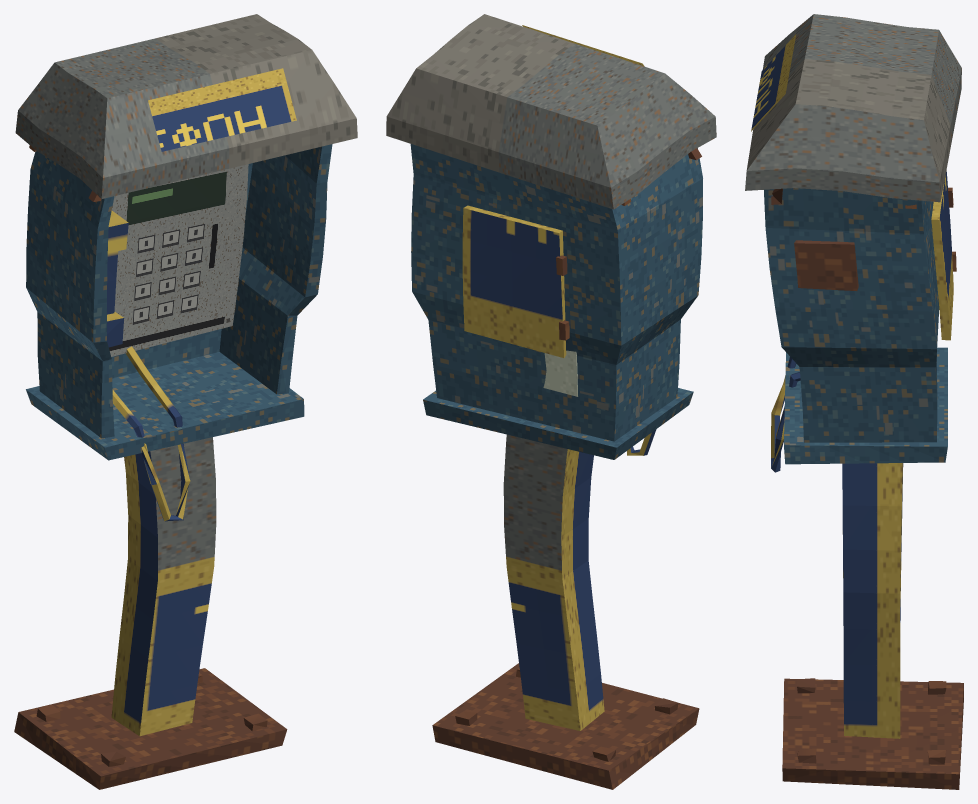
Rendered from SM_OD01_Payphone.fbx.
3 renders of one model, left to right at view 1: azimuth 30°, elevation 25°; view 2: azimuth 150°, elevation 25°; view 3: azimuth 270°, elevation 25°, orthographic. The views are drawn at different scales.
Parts seen in each view (by area): view 1: OD01_Body, OD01_Handset; view 2: OD01_Body; view 3: OD01_Body, OD01_Handset.
Boxes of the visible parts, x1=… form: OD01_Body: x1=14, y1=14, x2=357, y2=789; OD01_Handset: x1=107, y1=210, x2=190, y2=521; OD01_Body: x1=386, y1=14, x2=716, y2=789; OD01_Body: x1=745, y1=14, x2=963, y2=789; OD01_Handset: x1=771, y1=357, x2=800, y2=472.
Size of the model in its own units: 78.62 by 202 by 57.1.
